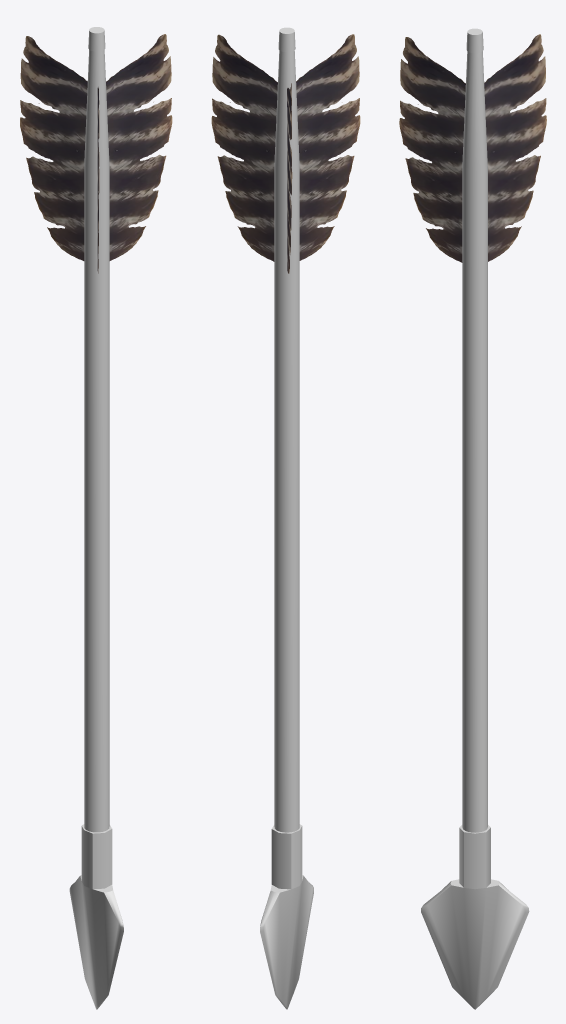
File: Arrow.fbx
3 views of the same model, side by side, from view 1: azimuth 30°, elevation 25°; view 2: azimuth 150°, elevation 25°; view 3: azimuth 270°, elevation 25° (orthographic).
Parts seen in each view (by area): view 1: Cube, Pijlveer; view 2: Cube, Pijlveer; view 3: Cube, Pijlveer.
Part boxes in pixels (bbox=[...]): Cube: bbox=[69, 27, 123, 1009]; Pijlveer: bbox=[20, 34, 172, 273]; Cube: bbox=[260, 27, 313, 1009]; Pijlveer: bbox=[211, 34, 360, 273]; Cube: bbox=[421, 28, 529, 1009]; Pijlveer: bbox=[399, 34, 546, 262].
Size of the model in its own units: 7.22 by 54.18 by 7.93.
